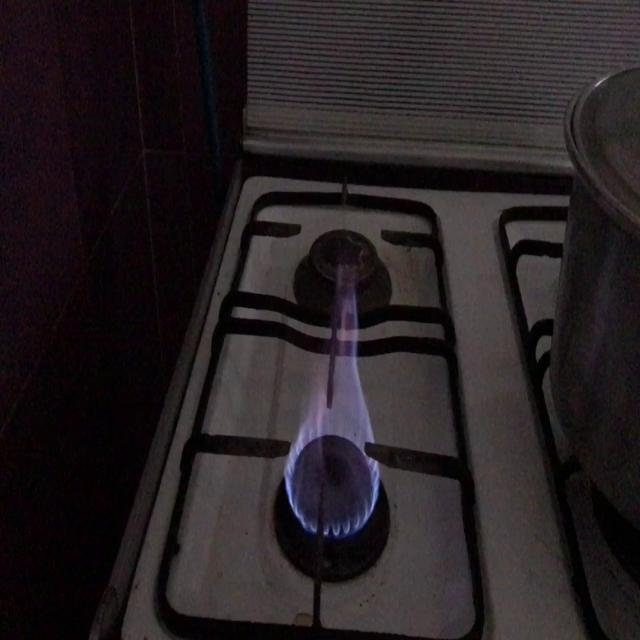fire: (284, 274, 384, 532)
